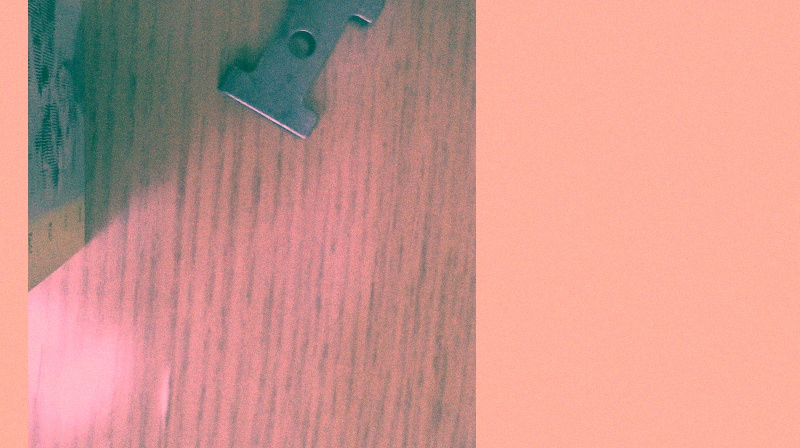O002: (213, 0, 388, 146)
